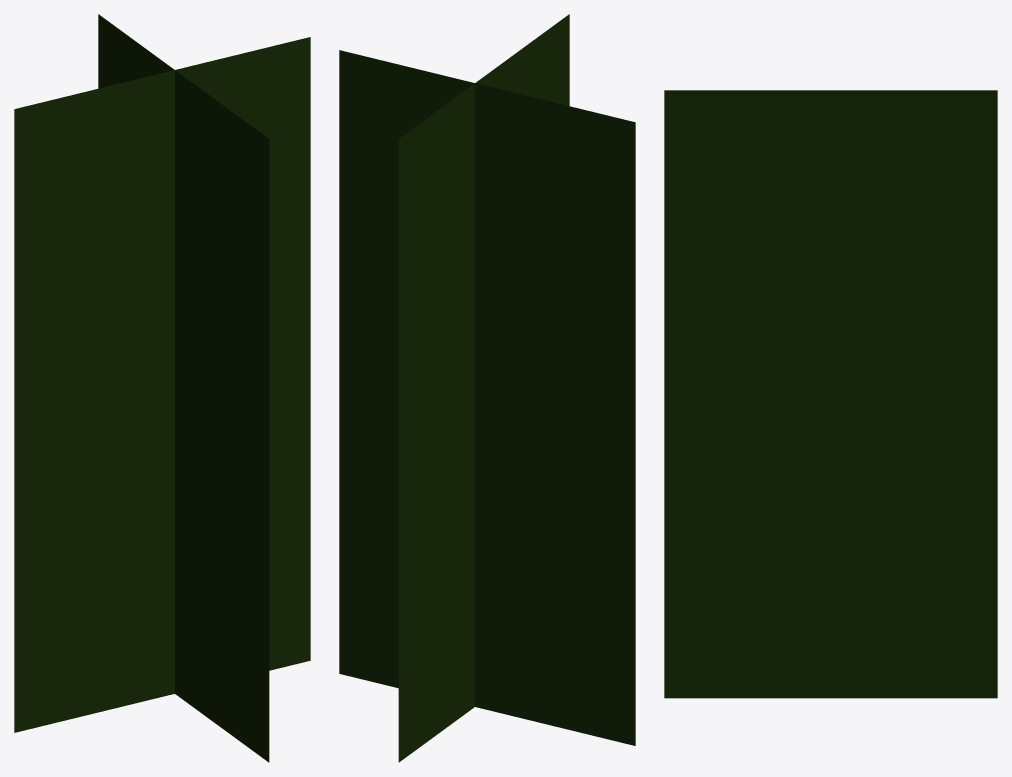
File: RT PlantMOB V07.FBX
The picture shows the model from 3 angles, left to right: view 1: azimuth 30°, elevation 25°; view 2: azimuth 150°, elevation 25°; view 3: azimuth 270°, elevation 25°; orthographic projection. The views are drawn at different scales.
Visible parts, largest first — view 1: RT PlantMOB V07; view 2: RT PlantMOB V07; view 3: RT PlantMOB V07.
Part boxes in pixels (x1,y1,x2,y2): RT PlantMOB V07: (14, 14, 310, 762); RT PlantMOB V07: (339, 14, 635, 762); RT PlantMOB V07: (664, 90, 997, 698).
Size of the model in its own units: 0.8473 by 1.7 by 0.8473.
